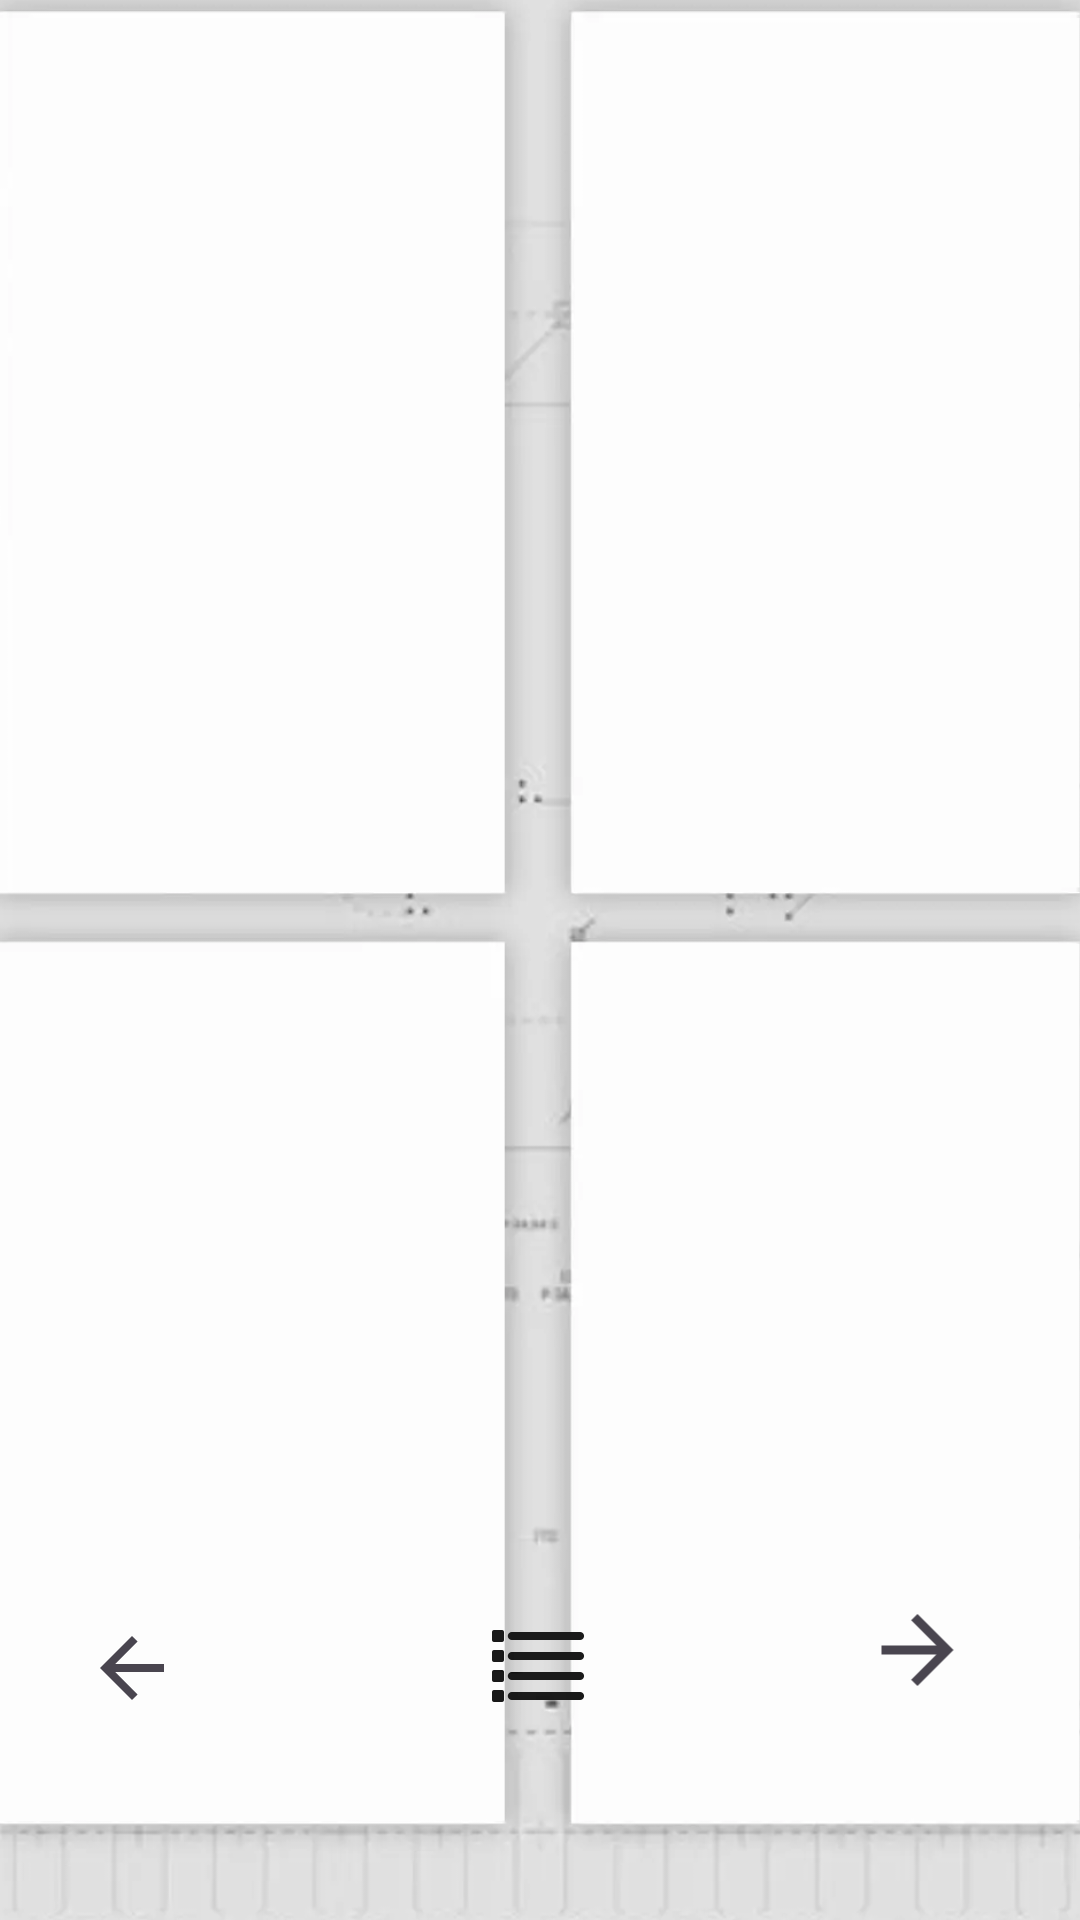

Icon click points for this 1080px x 1920px phone screenshot, format point (x, y):
list: point (538, 1666)
